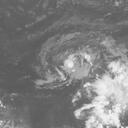cyclone: (38, 39, 99, 87)
